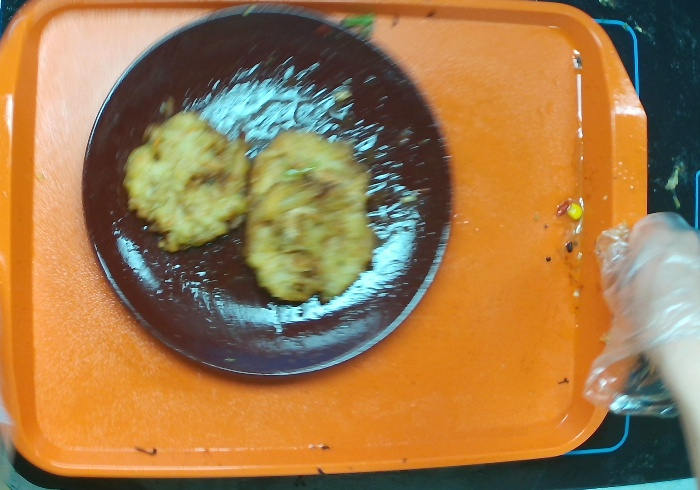HZYJPL-Ka_Fei_Yuan_Pan: (66, 2, 461, 391)
